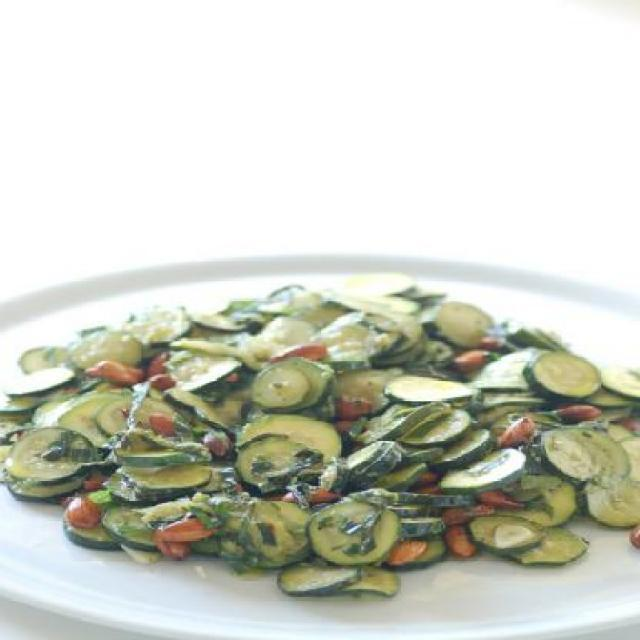Zucchini: (0, 272, 638, 598), (303, 499, 414, 567), (252, 365, 314, 407)
